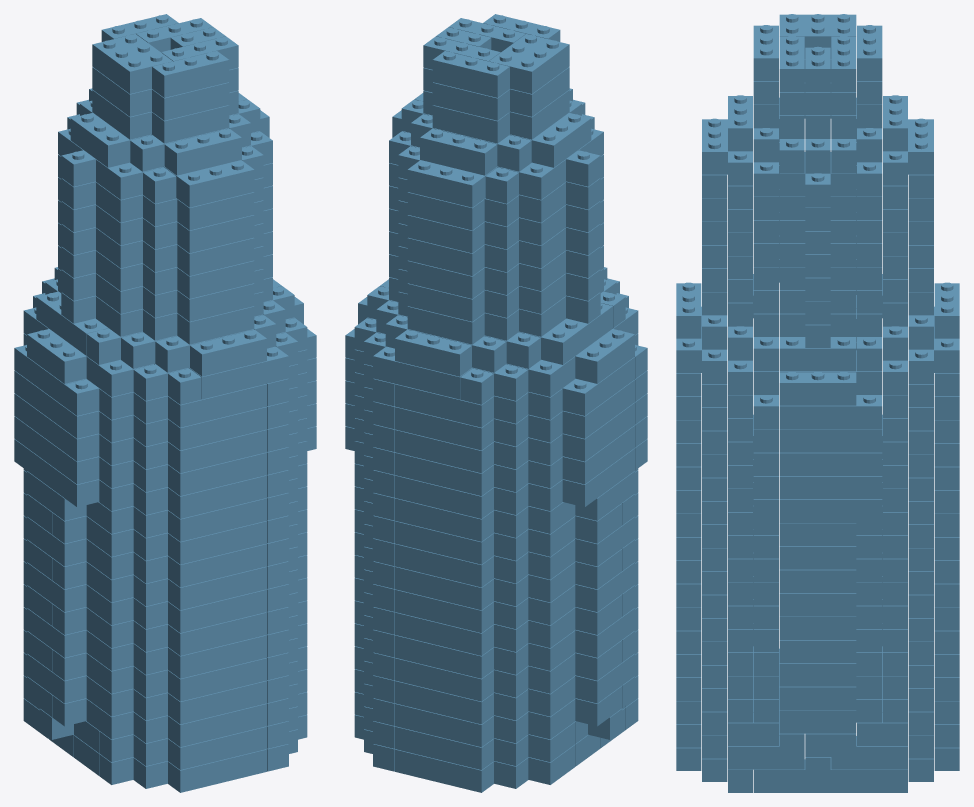
File: 175_jar_L5.glb
3 views of the same model, side by side, from view 1: azimuth 30°, elevation 25°; view 2: azimuth 150°, elevation 25°; view 3: azimuth 270°, elevation 25° (orthographic). The views are drawn at different scales.
Bounding box in the file's own units: 10.98 × 30.13 × 10.98.
